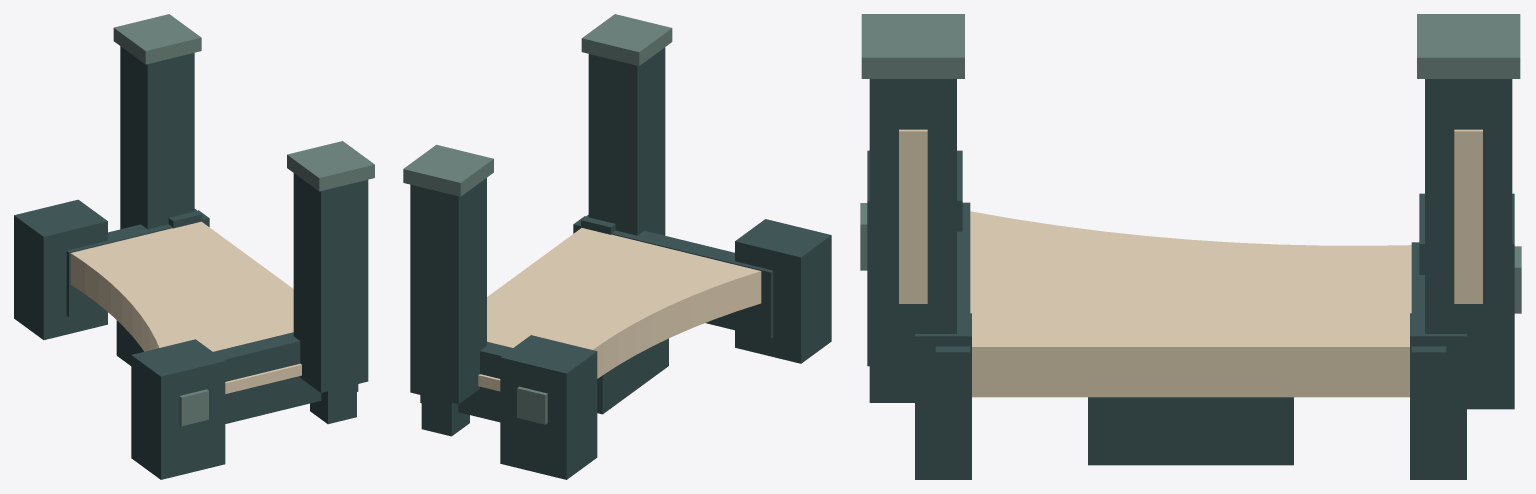
The model's file is Pier_Angled_10_Switch_lab2.glb.
3 renders of one model, left to right at view 1: azimuth 30°, elevation 25°; view 2: azimuth 150°, elevation 25°; view 3: azimuth 270°, elevation 25°, orthographic. The views are drawn at different scales.
Parts seen in each view (by area): view 1: Pier_Angled_10_Switch; view 2: Pier_Angled_10_Switch; view 3: Pier_Angled_10_Switch.
Part boxes in pixels (x1=…): Pier_Angled_10_Switch: x1=14, y1=14, x2=374, y2=479; Pier_Angled_10_Switch: x1=403, y1=14, x2=831, y2=479; Pier_Angled_10_Switch: x1=860, y1=14, x2=1521, y2=479.
Bounding box in the file's own units: 2.55 × 2.95 × 4.17.
